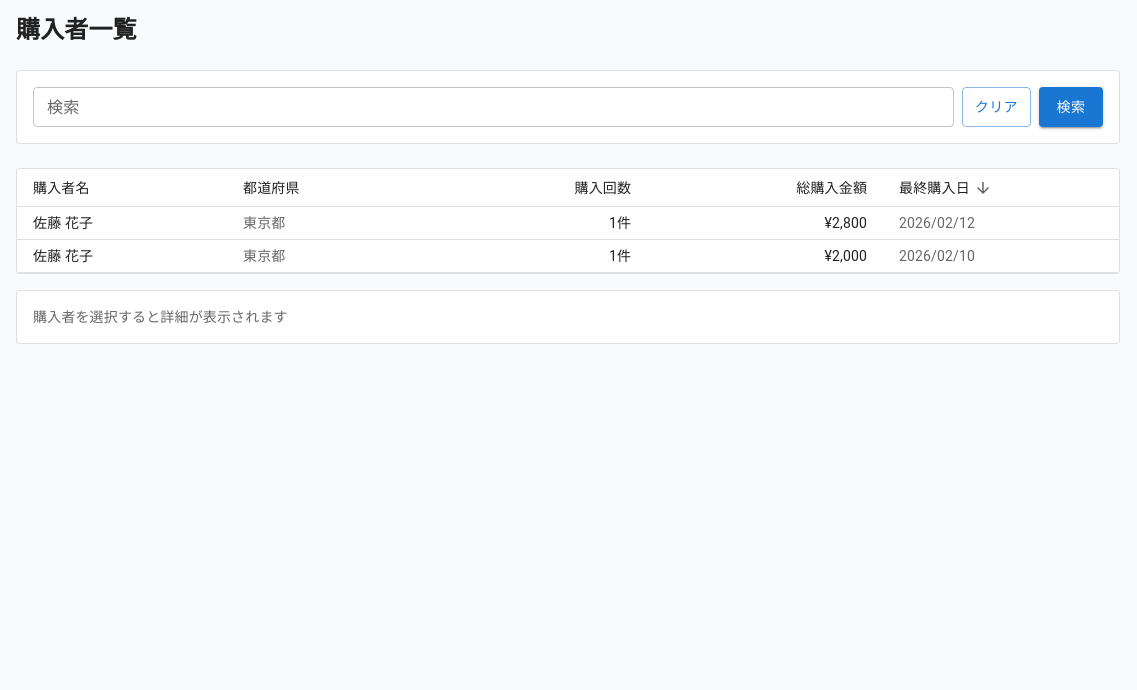
Test: BuyersPage (UC-007) › 同姓同名・別住所の購入者が別々に表示される
Expected: the text "佐藤 花子" is shown 2 times, [33,215,93,231]; [33,248,93,264]
# 1行目をクリック（最終購入日降順なので渋谷区が先）
Click the row "佐藤 花子 東京都 1件 ¥2,800 2026/02/12" at (568, 224), box [17,207,1119,240]
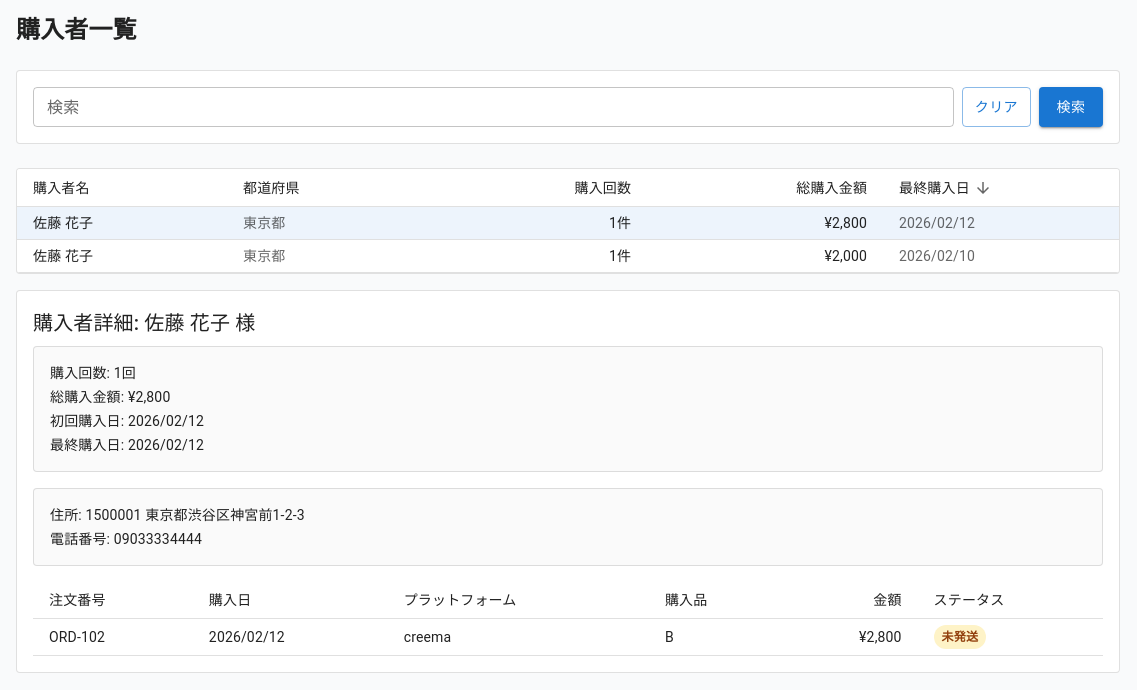
Now the text "電話番号: 09033334444" is shown, box [50,531,202,547]
Now the text "ORD-102" is shown, box [33,619,193,656]
# 2行目をクリック → 千代田区の詳細に切り替わる
Click the row "佐藤 花子 東京都 1件 ¥2,000 2026/02/10" at (568, 257), box [17,240,1119,273]
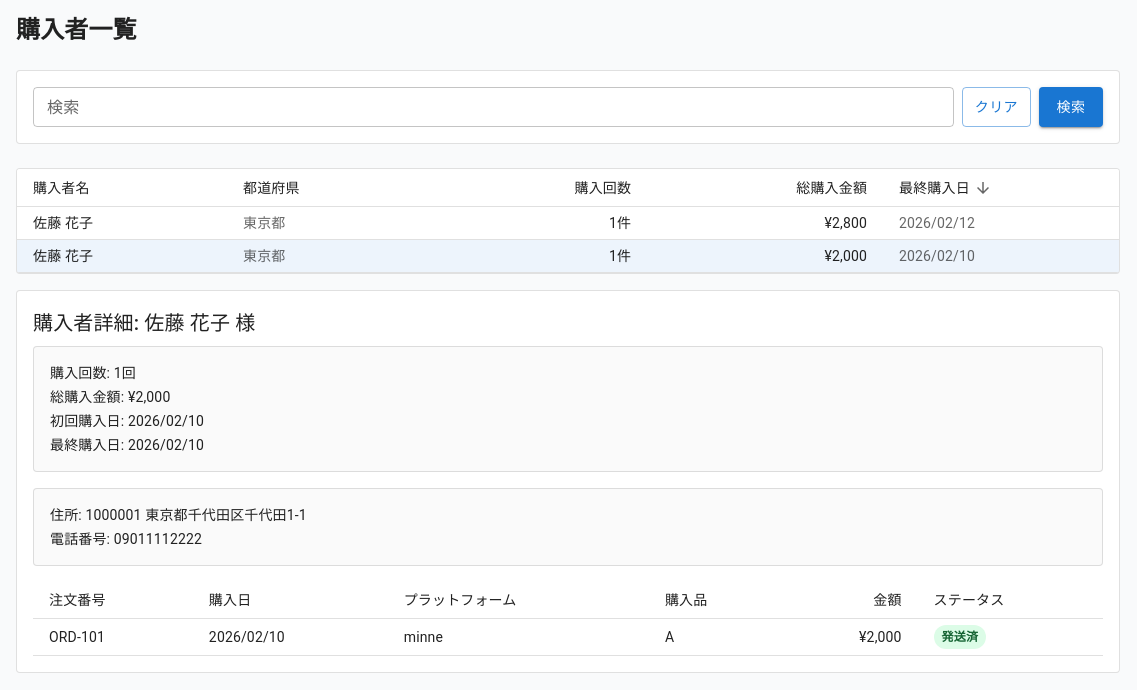
Now the text "電話番号: 09011112222" is shown, box [50,531,202,547]
Now the text "ORD-101" is shown, box [33,619,193,656]
